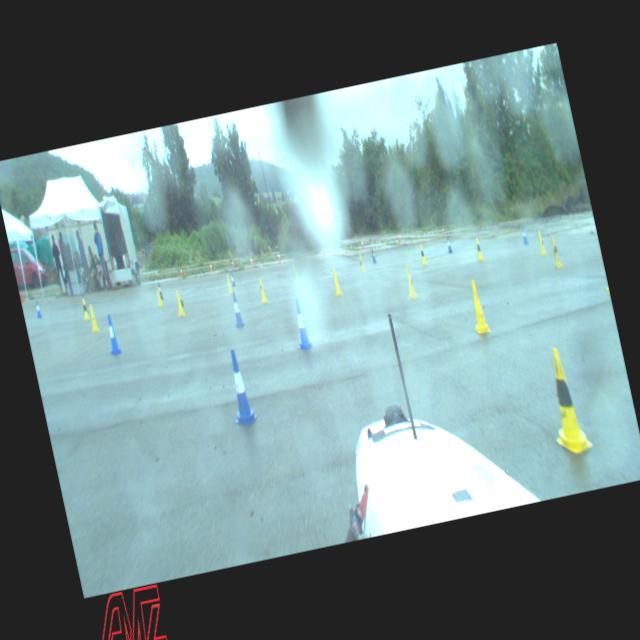blue_cone: (221, 348, 259, 426), (288, 298, 314, 350), (102, 312, 121, 354), (228, 292, 244, 328), (519, 224, 528, 244), (34, 300, 43, 318), (444, 235, 452, 252), (369, 246, 376, 263), (229, 270, 236, 286)
orange_cone: (440, 224, 446, 236), (320, 244, 326, 255), (360, 238, 365, 248), (249, 254, 253, 266), (276, 250, 280, 261), (208, 262, 212, 272), (397, 232, 401, 242), (178, 266, 182, 276), (230, 258, 234, 268)
yellow_cone: (538, 345, 594, 455), (464, 278, 490, 334), (401, 262, 418, 300), (548, 236, 562, 268), (329, 266, 342, 296), (88, 302, 99, 332), (256, 277, 268, 303), (173, 291, 185, 317), (535, 229, 546, 256), (472, 237, 483, 260), (79, 298, 90, 320), (154, 287, 164, 307), (418, 242, 427, 264), (291, 264, 299, 283), (357, 252, 364, 270), (225, 274, 232, 292)
